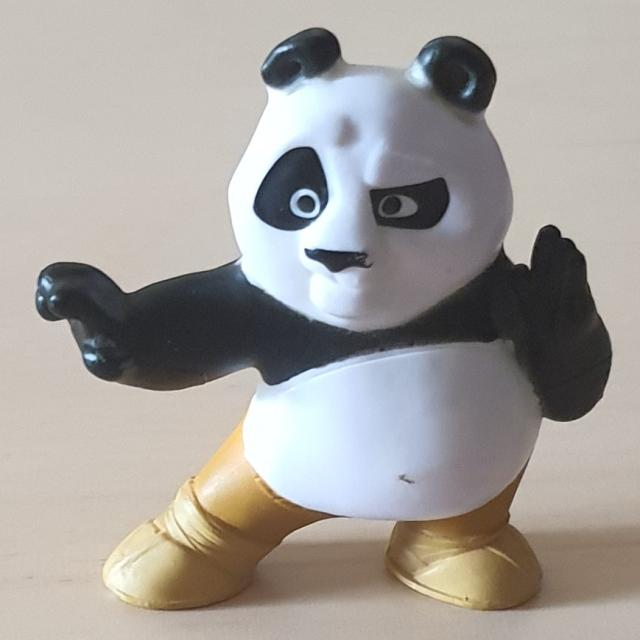Panda: (35, 26, 612, 612)
